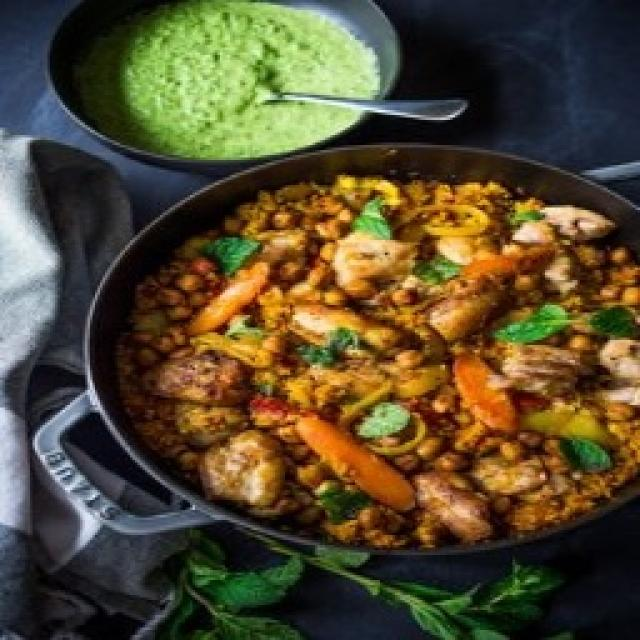Couscous: (119, 174, 640, 548)
